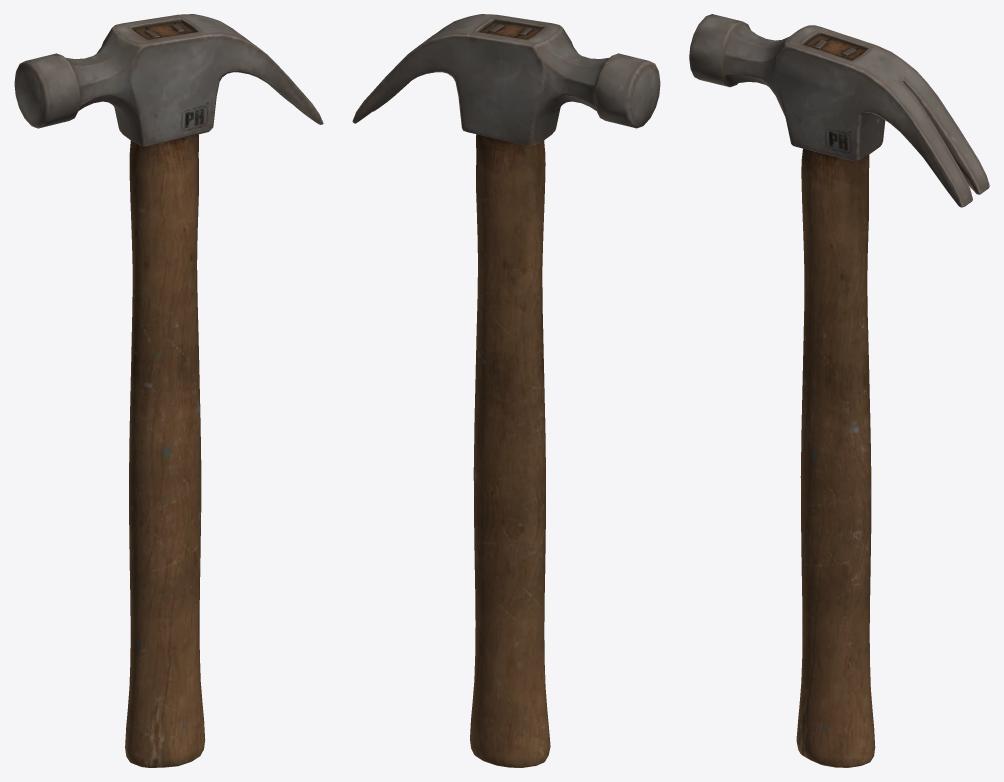
The model's file is wooden_hammer_01.glb.
The picture shows the model from 3 angles, left to right: view 1: azimuth 30°, elevation 25°; view 2: azimuth 150°, elevation 25°; view 3: azimuth 330°, elevation 25°; orthographic projection. The views are drawn at different scales.
Visible parts, largest first — view 1: wooden_hammer_01; view 2: wooden_hammer_01; view 3: wooden_hammer_01.
Boxes of the visible parts, x1=… form: wooden_hammer_01: x1=14, y1=14, x2=323, y2=767; wooden_hammer_01: x1=352, y1=14, x2=660, y2=767; wooden_hammer_01: x1=689, y1=14, x2=989, y2=767.
Bounding box in the file's own units: 0.1118 × 0.2791 × 0.0234.
1 material, 1 textured.
